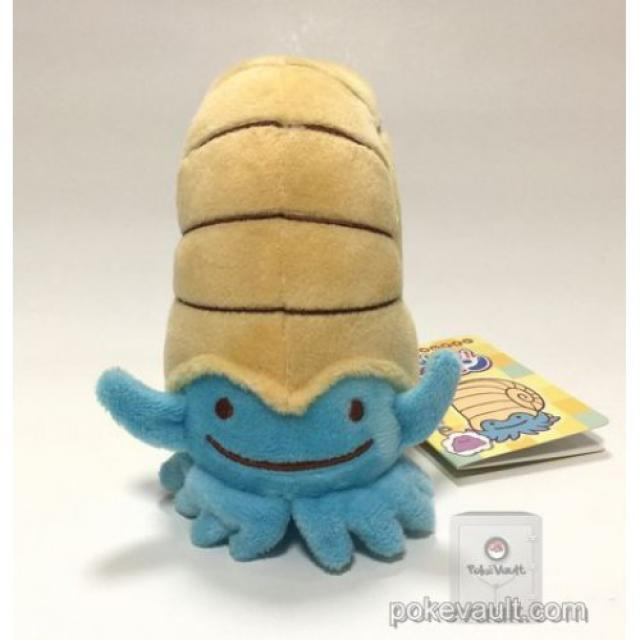Omanyte: (162, 55, 438, 578)
